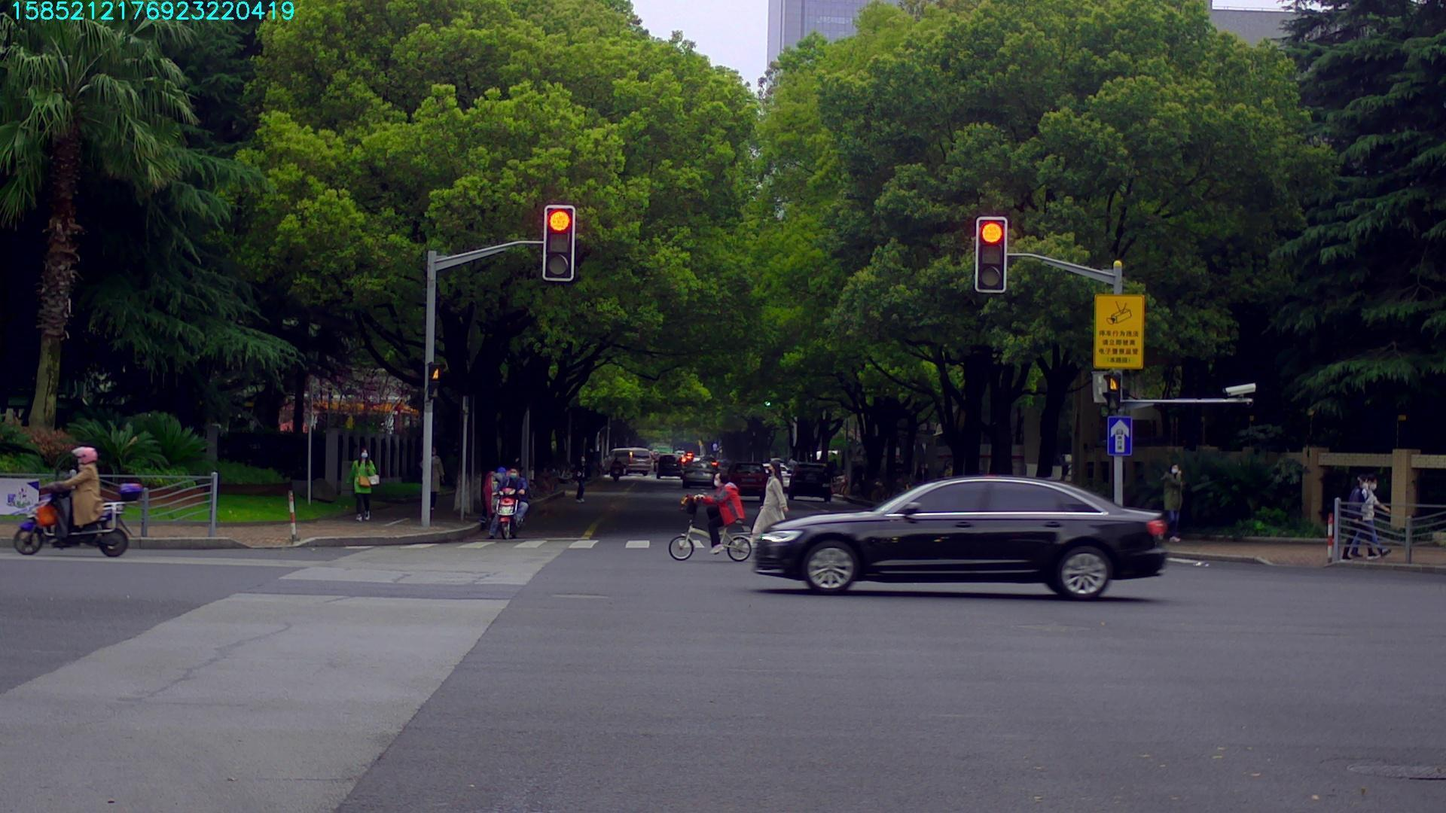red: (544, 206, 572, 279), (978, 217, 1005, 291)
